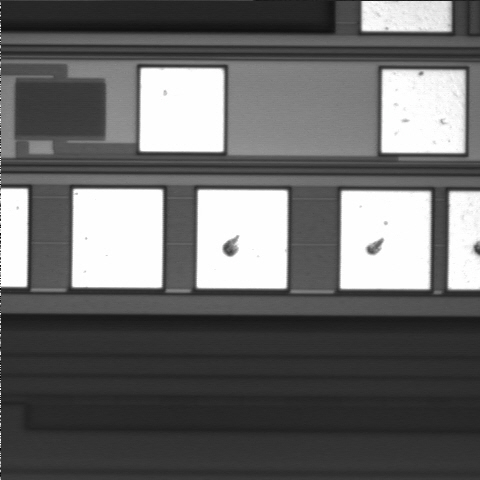pad: (72, 189, 163, 288), (197, 190, 287, 288), (340, 191, 430, 289), (140, 68, 224, 152), (382, 70, 465, 153)
